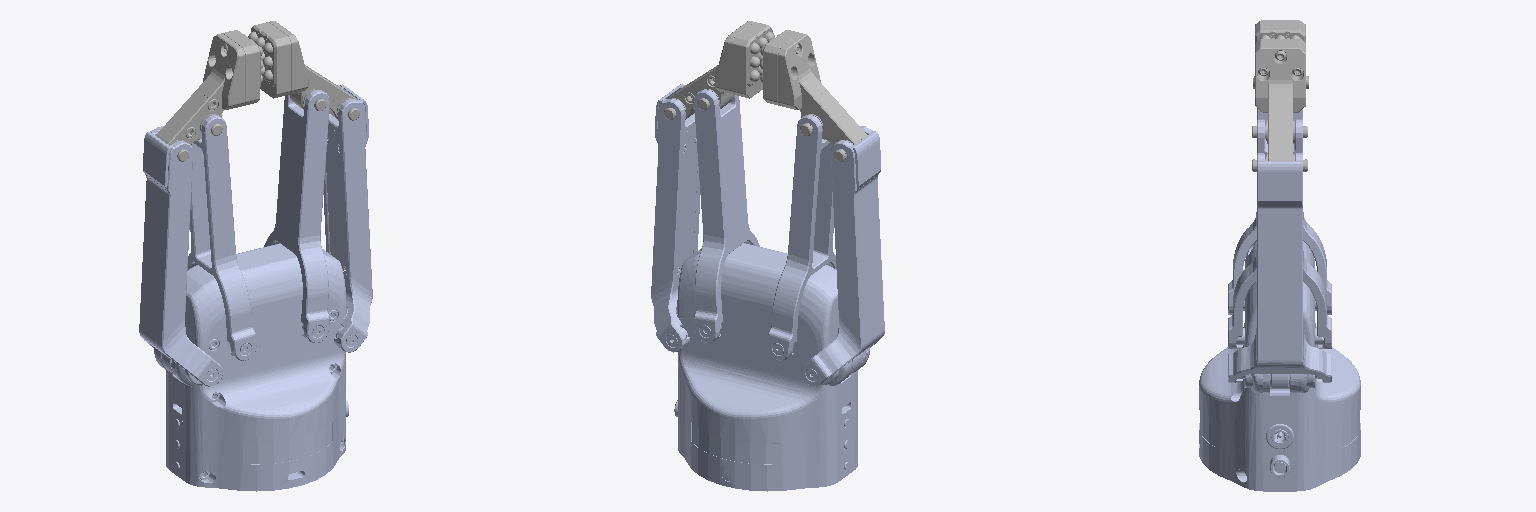
The robot description file, URDF, robot "gripper_gazebo_sim":
<?xml version="1.0" encoding="utf-8"?>
<!-- This URDF was automatically created by SolidWorks to URDF Exporter! Originally created by Stephen Brawner (brawner@gmail.com) 
     Commit Version: 1.6.0-4-g7f85cfe  Build Version: 1.6.7995.38578
     For more information, please see http://wiki.ros.org/sw_urdf_exporter -->
<robot
  name="gripper_gazebo_sim">

  <!-- Dummy world link -->
  <link name="world"/>

  <!-- Fixed joint connecting world to base_link -->
  <joint name="world_to_base" type="fixed">
    <parent link="world"/>
    <child link="base_link"/>
    <origin xyz="0 0 0" rpy="0 0 0"/>
  </joint>


  <link
    name="base_link">
    <inertial>
      <origin
        xyz="7.34854962107373E-05 4.91777501359862E-05 0.0424495526132488"
        rpy="0 0 0" />
      <mass
        value="0.377123905999207" />
      <inertia
        ixx="0.000307540396731287"
        ixy="-2.58937492375498E-07"
        ixz="-6.43799804375433E-07"
        iyy="0.0004529231000964"
        iyz="1.29583624940918E-05"
        izz="0.000219729126664532" />
    </inertial>
    <visual>
      <origin
        xyz="0 0 0"
        rpy="0 0 0" />
      <geometry>
        <mesh
          filename="assets/contactile/gal2/meshes/base_link.STL" />
      </geometry>
      <material
        name="">
        <color
          rgba="0.792156862745098 0.819607843137255 0.933333333333333 1" />
      </material>
    </visual>
    <collision>
      <origin
        xyz="0 0 0"
        rpy="0 0 0" />
      <geometry>
        <mesh
          filename="assets/contactile/gal2/meshes/base_link.STL" />
      </geometry>
    </collision>
  </link>
  <link
    name="link1">
    <inertial>
      <origin
        xyz="-0.0205537726028013 0.0106165651980014 0.051337097614248"
        rpy="0 0 0" />
      <mass
        value="0.0298219889140745" />
      <inertia
        ixx="2.98149919149656E-05"
        ixy="-2.82671166592861E-10"
        ixz="-1.94168311352801E-09"
        iyy="3.1521794066348E-05"
        iyz="-5.33477835230874E-08"
        izz="2.66094662679502E-06" />
    </inertial>
    <visual>
      <origin
        xyz="0 0 0"
        rpy="0 0 0" />
      <geometry>
        <mesh
          filename="assets/contactile/gal2/meshes/link1.STL" />
      </geometry>
      <material
        name="">
        <color
          rgba="0.792156862745098 0.819607843137255 0.933333333333333 1" />
      </material>
    </visual>
    <collision>
      <origin
        xyz="0 0 0"
        rpy="0 0 0" />
      <geometry>
        <mesh
          filename="assets/contactile/gal2/meshes/link1.STL" />
      </geometry>
    </collision>
  </link>
  <joint
    name="b_to_l1"
    type="revolute">
    <origin
      xyz="-0.0375 0.0205 0.0609"
      rpy="0 0 1.5708" />
    <parent
      link="base_link" />
    <child
      link="link1" />
    <axis
      xyz="-1 0 0" />
    <limit
      lower="0"
      upper="1.0472"
      effort="10"
      velocity="1" />
  </joint>
  <link
    name="finger1">
    <inertial>
      <origin
        xyz="0.000563738679013409 0.0337758666794904 -0.00655751573328261"
        rpy="0 0 0" />
      <mass
        value="0.0183214293899292" />
      <inertia
        ixx="2.91955064379571E-06"
        ixy="-3.907909717534E-07"
        ixz="3.03726030189771E-08"
        iyy="1.06456783418674E-06"
        iyz="5.51358702009101E-08"
        izz="2.78778566645044E-06" />
    </inertial>
    <visual>
      <origin
        xyz="0 0 0"
        rpy="0 0 0" />
      <geometry>
        <mesh
          filename="assets/contactile/gal2/meshes/finger1.STL" />
      </geometry>
      <material
        name="">
        <color
          rgba="0.752941176470588 0.752941176470588 0.752941176470588 1" />
      </material>
    </visual>
    <collision>
      <origin
        xyz="0 0 0"
        rpy="0 0 0" />
      <geometry>
        <mesh
          filename="assets/contactile/gal2/meshes/finger1.STL" />
      </geometry>
    </collision>
  </link>
  <joint
    name="l1_to_f1"
    type="revolute">
    <origin
      xyz="-0.0136750000000002 0.00829340101189021 0.109686915808842"
      rpy="1.5707963267949 -0.872664625997159 1.5707963267949" />
    <parent
      link="link1" />
    <child
      link="finger1" />
    <axis
      xyz="0 0 -1" />
    <limit
      lower="0"
      upper="0"
      effort="0"
      velocity="0" />
    <mimic
      joint="b_to_l1"
      multiplier="-1"
      offset="0" />
  </joint>
  <link
    name="coupler1">
    <inertial>
      <origin
        xyz="0.00344544835936102 0.052483191065121 -0.0204953855509735"
        rpy="0 0 0" />
      <mass
        value="0.0141912857356995" />
      <inertia
        ixx="1.84119653760374E-05"
        ixy="-1.08451650934639E-06"
        ixz="-5.13994702636591E-11"
        iyy="2.63494365079147E-06"
        iyz="2.18550056071356E-09"
        izz="1.62952608199251E-05" />
    </inertial>
    <visual>
      <origin
        xyz="0 0 0"
        rpy="0 0 0" />
      <geometry>
        <mesh
          filename="assets/contactile/gal2/meshes/coupler1.STL" />
      </geometry>
      <material
        name="">
        <color
          rgba="0.792156862745098 0.819607843137255 0.933333333333333 1" />
      </material>
    </visual>
    <collision>
      <origin
        xyz="0 0 0"
        rpy="0 0 0" />
      <geometry>
        <mesh
          filename="assets/contactile/gal2/meshes/coupler1.STL" />
      </geometry>
    </collision>
  </link>
  <joint
    name="b_to_c1"
    type="revolute">
    <origin
      xyz="-0.0195 0.0205 0.0699"
      rpy="1.5708 0 3.1416" />
    <parent
      link="base_link" />
    <child
      link="coupler1" />
    <axis
      xyz="0 0 -1" />
    <limit
      lower="0"
      upper="0"
      effort="0"
      velocity="0" />
    <mimic
      joint="b_to_l1"
      multiplier="1"
      offset="0" />
  </joint>
  <link
    name="coupler2">
    <inertial>
      <origin
        xyz="0.00344544835938911 -0.0524831910651041 -0.0205046144490271"
        rpy="0 0 0" />
      <mass
        value="0.0141912857315129" />
      <inertia
        ixx="1.84119654170656E-05"
        ixy="1.08451650914108E-06"
        ixz="5.13982428232034E-11"
        iyy="2.63494364969281E-06"
        iyz="2.18551295912077E-09"
        izz="1.62952608613147E-05" />
    </inertial>
    <visual>
      <origin
        xyz="0 0 0"
        rpy="0 0 0" />
      <geometry>
        <mesh
          filename="assets/contactile/gal2/meshes/coupler2.STL" />
      </geometry>
      <material
        name="">
        <color
          rgba="0.792156862745098 0.819607843137255 0.933333333333333 1" />
      </material>
    </visual>
    <collision>
      <origin
        xyz="0 0 0"
        rpy="0 0 0" />
      <geometry>
        <mesh
          filename="assets/contactile/gal2/meshes/coupler2.STL" />
      </geometry>
    </collision>
  </link>
  <joint
    name="b_to_c2"
    type="revolute">
    <origin
      xyz="0.0195 0.0205 0.0699"
      rpy="-1.5708 0 0" />
    <parent
      link="base_link" />
    <child
      link="coupler2" />
    <axis
      xyz="0 0 -1" />
    <limit
      lower="0"
      upper="0"
      effort="0"
      velocity="0" />
    <mimic
      joint="b_to_l2"
      multiplier="1"
      offset="0" />
  </joint>
  <link
    name="link2">
    <inertial>
      <origin
        xyz="0.0106018083502305 -0.0512657399081428 -0.0204787900923537"
        rpy="0 0 0" />
      <mass
        value="0.0298219889140743" />
      <inertia
        ixx="3.15217940663475E-05"
        ixy="5.33477835164525E-08"
        ixz="2.82671166611019E-10"
        iyy="2.66094662679496E-06"
        iyz="-1.94168311362777E-09"
        izz="2.98149919149652E-05" />
    </inertial>
    <visual>
      <origin
        xyz="0 0 0"
        rpy="0 0 0" />
      <geometry>
        <mesh
          filename="assets/contactile/gal2/meshes/link2.STL" />
      </geometry>
      <material
        name="">
        <color
          rgba="0.792156862745098 0.819607843137255 0.933333333333333 1" />
      </material>
    </visual>
    <collision>
      <origin
        xyz="0 0 0"
        rpy="0 0 0" />
      <geometry>
        <mesh
          filename="assets/contactile/gal2/meshes/link2.STL" />
      </geometry>
    </collision>
  </link>
  <joint
    name="b_to_l2"
    type="revolute">
    <origin
      xyz="0.0375 0.0205 0.0609"
      rpy="-1.5708 0 0" />
    <parent
      link="base_link" />
    <child
      link="link2" />
    <axis
      xyz="0 0 -1" />
    <limit
      lower="0"
      upper="0"
      effort="0"
      velocity="0" />
    <mimic
      joint="b_to_l1"
      multiplier="-1"
      offset="0" />
  </joint>
  <link
    name="finger2">
    <inertial>
      <origin
        xyz="0.0257982175417586 0.0221646169398035 -0.00682748426671731"
        rpy="0 0 0" />
      <mass
        value="0.0168683354498972" />
      <inertia
        ixx="2.13233031330755E-06"
        ixy="-9.81260866397316E-07"
        ixz="-2.27133940894173E-08"
        iyy="1.68473674021975E-06"
        iyz="-5.87074179801802E-08"
        izz="2.78131210059902E-06" />
    </inertial>
    <visual>
      <origin
        xyz="0 0 0"
        rpy="0 0 0" />
      <geometry>
        <mesh
          filename="assets/contactile/gal2/meshes/finger2.STL" />
      </geometry>
      <material
        name="">
        <color
          rgba="0.752941176470588 0.752941176470588 0.752941176470588 1" />
      </material>
    </visual>
    <collision>
      <origin
        xyz="0 0 0"
        rpy="0 0 0" />
      <geometry>
        <mesh
          filename="assets/contactile/gal2/meshes/finger2.STL" />
      </geometry>
    </collision>
  </link>
<joint
  name="l2_to_f2"
  type="revolute">
  <origin
    xyz="0.00858016781026817 -0.109664856359469 -0.0134"
    rpy="0 0 3.1416" />
  <parent
    link="link2" />
  <child
    link="finger2" />
  <axis
    xyz="0 0 -1" />
  <limit
    lower="0"
    upper="0"
    effort="0"
    velocity="0" />
  <mimic
    joint="l1_to_f1"
    multiplier="-1"
    offset="0" />
</joint>




</robot>

--- What the picture shows (computed from the rendered views, not written in the file) ---
The picture shows the robot from 3 angles, left to right: view 1: azimuth 30°, elevation 25°; view 2: azimuth 150°, elevation 25°; view 3: azimuth 270°, elevation 25°; orthographic projection.
Robot: gripper_gazebo_sim — 8 links, 7 joints (6 revolute, 1 fixed); root link world; default pose: every joint at zero.
Links seen in each view (by area): view 1: base_link, link1, coupler2, link2, coupler1, finger1, finger2; view 2: base_link, link1, coupler2, link2, coupler1, finger1, finger2; view 3: base_link, link2, finger2, coupler2, coupler1, finger1.
Boxes of the visible links, x1,y1,x2,y2 form: base_link: [154, 243, 348, 491]; link1: [139, 126, 222, 386]; coupler2: [264, 90, 329, 342]; link2: [323, 84, 372, 352]; coupler1: [188, 115, 256, 360]; finger1: [156, 30, 263, 161]; finger2: [248, 21, 359, 120]; base_link: [674, 243, 870, 491]; link1: [801, 126, 884, 386]; coupler2: [694, 89, 759, 342]; link2: [651, 84, 699, 352]; coupler1: [767, 114, 836, 360]; finger1: [760, 30, 867, 161]; finger2: [664, 21, 774, 119]; base_link: [1199, 241, 1360, 491]; link2: [1228, 153, 1331, 387]; finger2: [1252, 38, 1307, 171]; coupler2: [1228, 119, 1331, 348]; coupler1: [1228, 108, 1331, 313]; finger1: [1253, 20, 1308, 88].
Bounding box of the posed robot: 0.1135 × 0.076 × 0.2172 m (x, y, z).
Meshes: 7 distinct files referenced, 7 mesh visuals loaded (7 binary STL).
